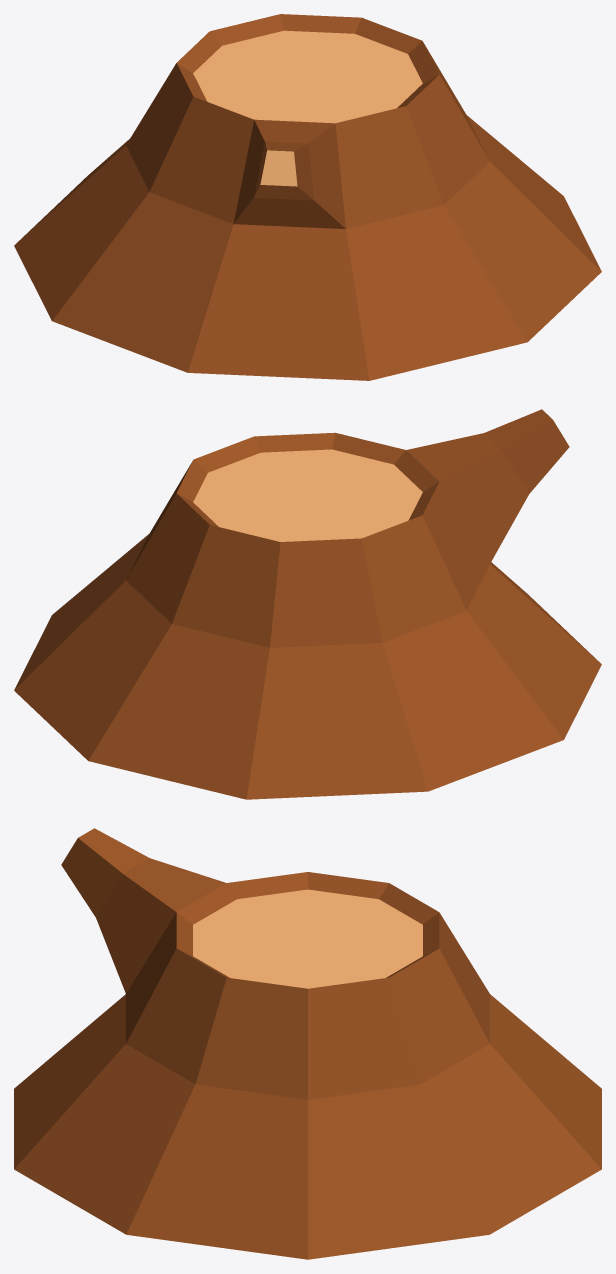
The model's file is batang kayu .fbx.
The picture shows the model from 3 angles, top to bottom: view 1: azimuth 30°, elevation 25°; view 2: azimuth 150°, elevation 25°; view 3: azimuth 270°, elevation 25°; orthographic projection. The views are drawn at different scales.
Visible parts, largest first — view 1: POHON TUMBANG; view 2: POHON TUMBANG; view 3: POHON TUMBANG.
Part boxes in pixels (<box>): POHON TUMBANG: <box>14,14,601,380</box>; POHON TUMBANG: <box>14,409,601,799</box>; POHON TUMBANG: <box>14,828,601,1259</box>.
Size of the model in its own units: 96.16 by 39.12 by 91.45.
